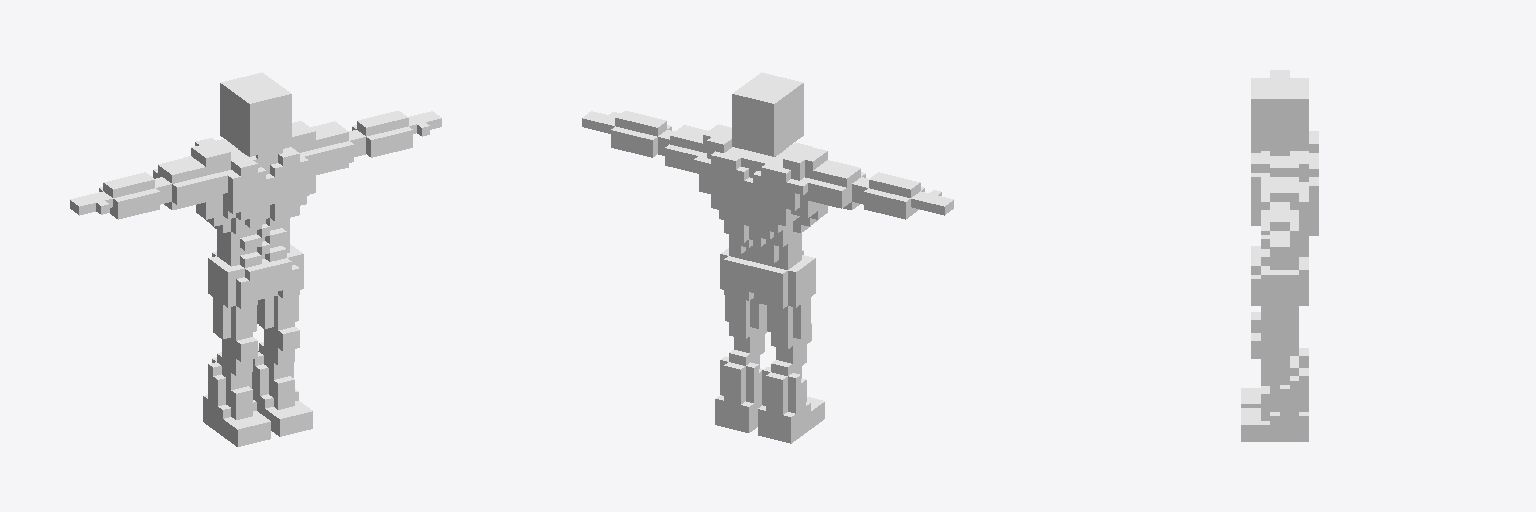
Rendered from Character-1.obj.
3 renders of one model, left to right at view 1: azimuth 30°, elevation 25°; view 2: azimuth 150°, elevation 25°; view 3: azimuth 270°, elevation 25°, orthographic.
Visible parts, largest first — view 1: object 1; view 2: object 1; view 3: object 1.
Part boxes in pixels (x1,y1,x2,y2): object 1: (70, 72, 441, 446); object 1: (582, 72, 953, 443); object 1: (1241, 70, 1318, 441).
Size of the model in its own units: 8.6 by 7.6 by 1.6.